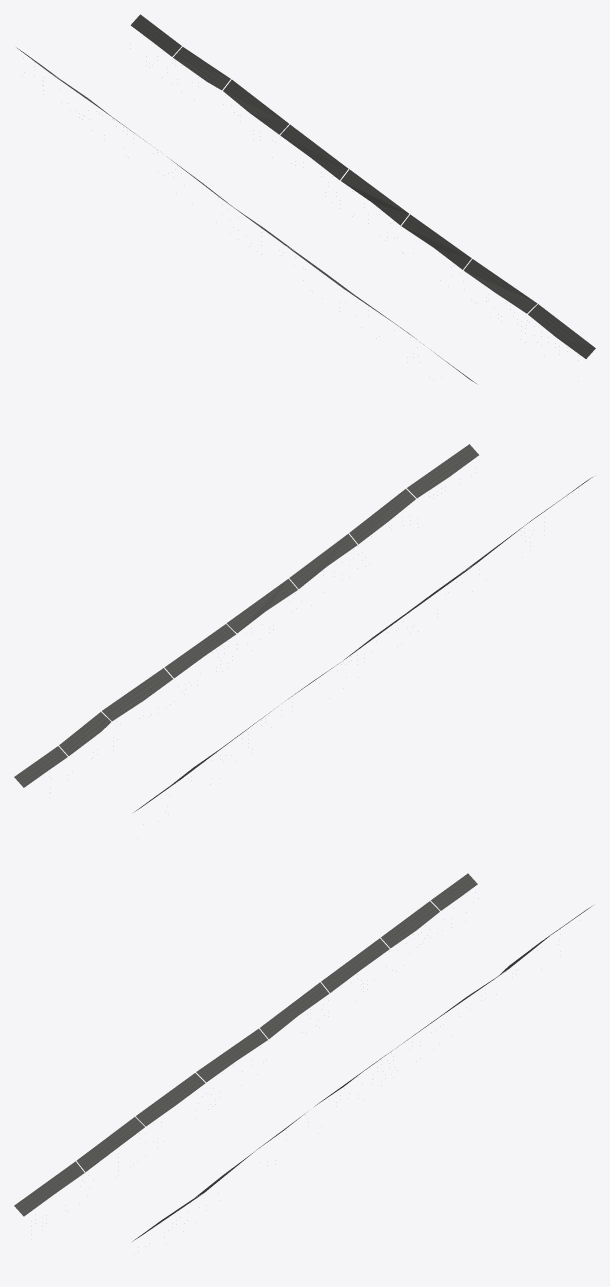
The model's file is vgnntrainfence04b.obj.
3 renders of one model, top to bottom at view 1: azimuth 30°, elevation 25°; view 2: azimuth 150°, elevation 25°; view 3: azimuth 330°, elevation 25°, orthographic.
Parts seen in each view (by area): view 1: vgnNtrainfence04b; view 2: vgnNtrainfence04b; view 3: vgnNtrainfence04b.
Boxes of the visible parts, box(x1,y1,x2,y2) form: vgnNtrainfence04b: box(16, 14, 595, 383); vgnNtrainfence04b: box(14, 444, 592, 812); vgnNtrainfence04b: box(14, 873, 593, 1241).
Size of the model in its own units: 18.12 by 5.47 by 110.
Materials: 2 (2 with a texture image).
